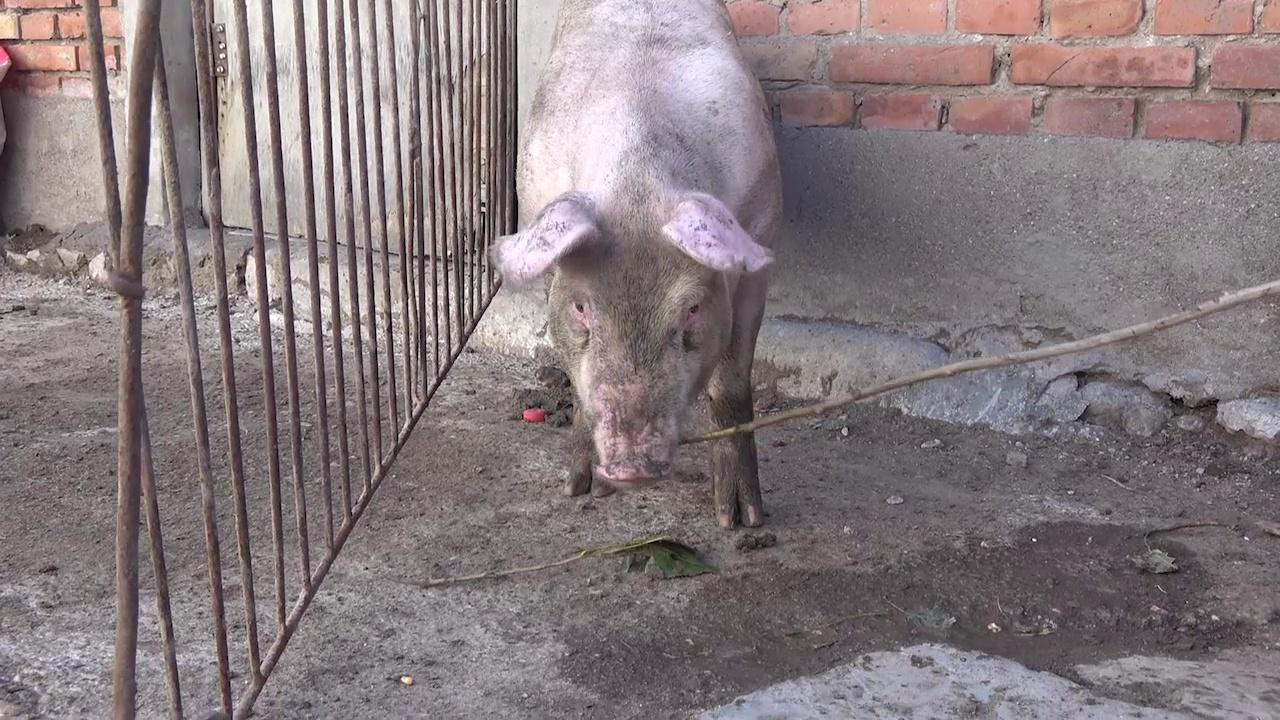Face: (470, 187, 786, 503)
